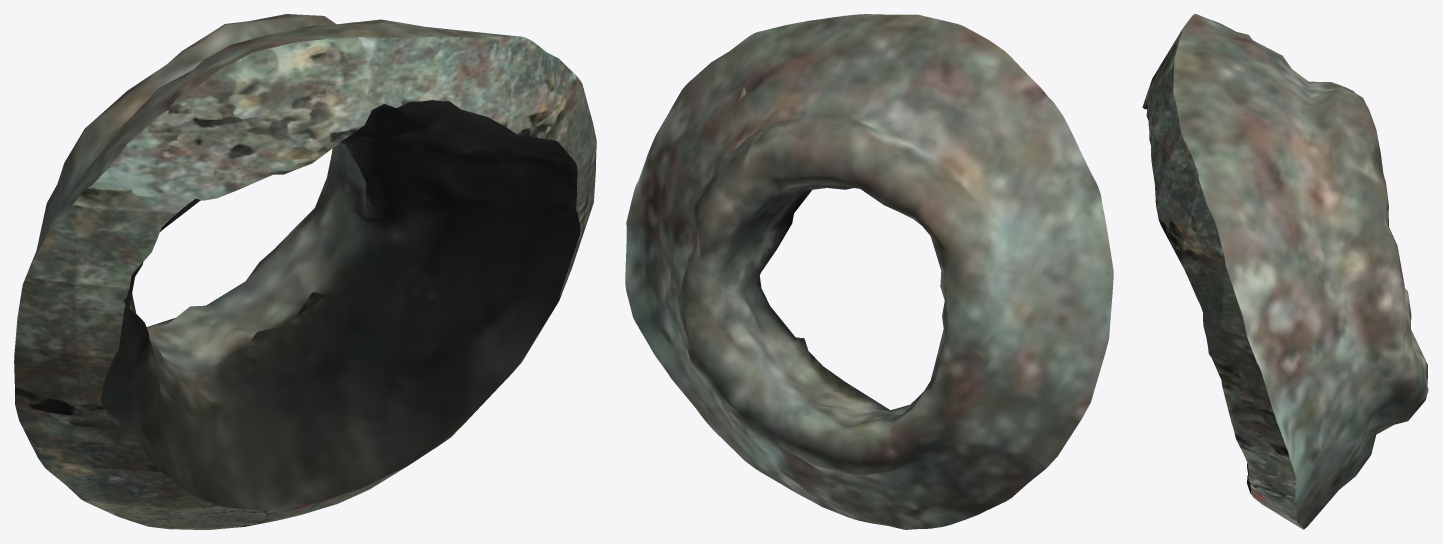
The model's file is rauchergefass_in_vogelgestalt_2.glb.
3 views of the same model, side by side, from view 1: azimuth 30°, elevation 25°; view 2: azimuth 150°, elevation 25°; view 3: azimuth 270°, elevation 25° (orthographic). The views are drawn at different scales.
Visible parts, largest first — view 1: Mesh_0.011; view 2: Mesh_0.011; view 3: Mesh_0.011.
Part boxes in pixels (box(x1,y1,x2,y2)): Mesh_0.011: box(14, 14, 596, 529); Mesh_0.011: box(625, 14, 1113, 529); Mesh_0.011: box(1142, 14, 1428, 529).
Bounding box in the file's own units: 0.3503 × 0.3174 × 0.1818.
1 material, 1 textured.
